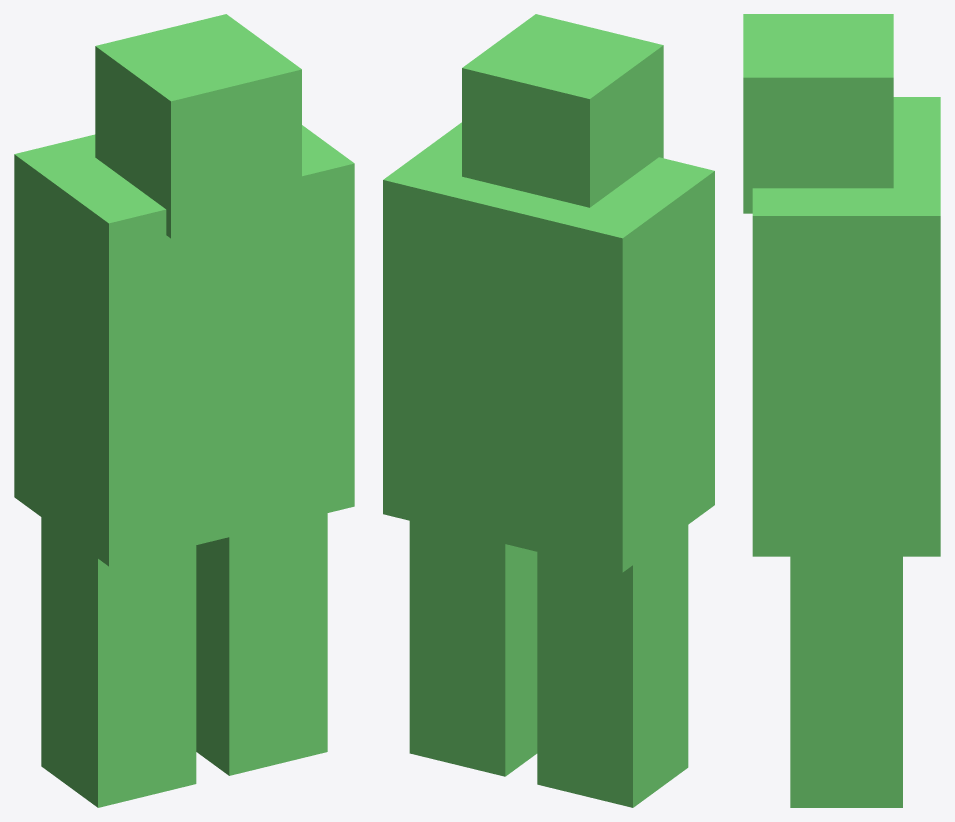
Rendered from light_mech.gltf.
The picture shows the model from 3 angles, left to right: view 1: azimuth 30°, elevation 25°; view 2: azimuth 150°, elevation 25°; view 3: azimuth 270°, elevation 25°; orthographic projection. The views are drawn at different scales.
Parts seen in each view (by area): view 1: Light Mech; view 2: Light Mech; view 3: Light Mech.
Boxes of the visible parts, bbox=[...] form: Light Mech: bbox=[14, 14, 354, 807]; Light Mech: bbox=[383, 14, 714, 807]; Light Mech: bbox=[743, 14, 940, 807].
Bounding box in the file's own units: 2.4 × 6.64 × 1.68.
